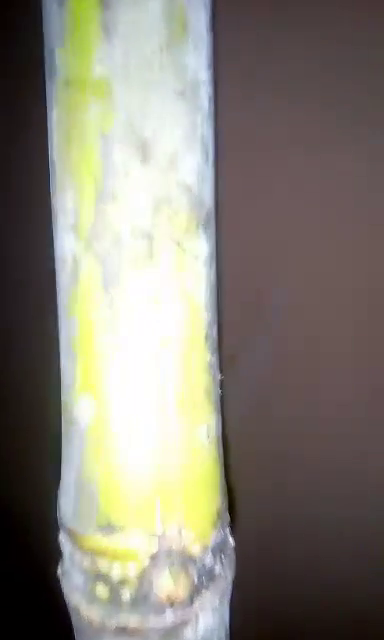cane eye: (144, 554, 206, 611)
